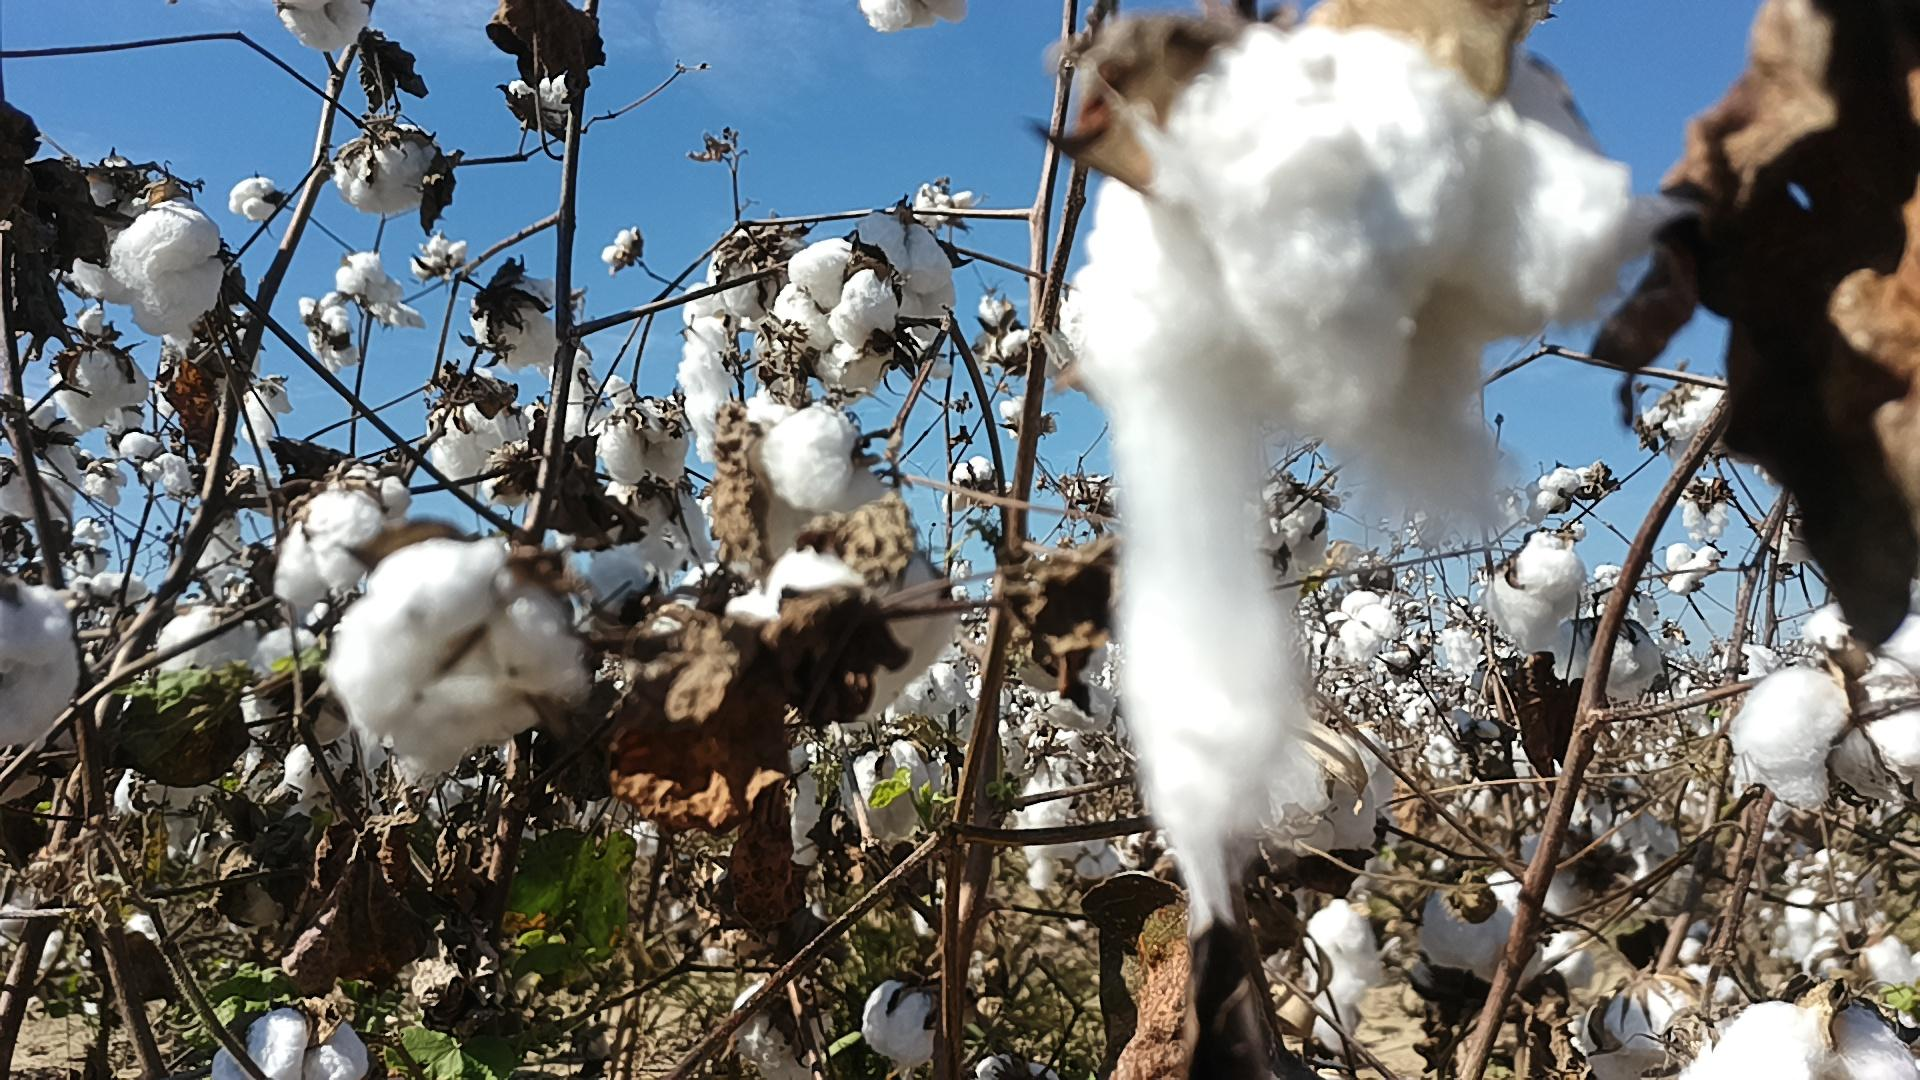cotton_ready: (1071, 24, 1631, 932), (330, 545, 591, 778), (723, 525, 963, 723), (1733, 604, 1920, 816), (727, 397, 890, 568), (1420, 832, 1589, 986), (775, 235, 906, 404), (69, 203, 224, 336), (1671, 1001, 1920, 1080), (1584, 964, 1746, 1080), (260, 682, 386, 828), (1241, 727, 1381, 853), (276, 488, 382, 628), (998, 716, 1083, 889), (855, 208, 959, 344), (235, 622, 319, 787), (0, 587, 80, 745), (429, 363, 530, 483), (1485, 537, 1589, 651), (215, 1002, 368, 1080), (1799, 913, 1920, 1005), (1304, 898, 1378, 1048), (1540, 618, 1667, 704), (605, 479, 719, 570), (675, 284, 731, 464), (711, 225, 810, 320), (335, 123, 434, 216), (53, 344, 154, 434), (856, 737, 945, 839), (1642, 377, 1734, 473), (0, 396, 86, 491), (570, 524, 651, 622), (471, 277, 559, 367), (599, 397, 688, 483), (156, 609, 262, 673), (865, 976, 943, 1062), (1317, 591, 1399, 663), (116, 764, 218, 816), (298, 290, 360, 376), (278, 0, 368, 54), (884, 662, 964, 720), (87, 166, 148, 241), (567, 348, 615, 443), (0, 463, 69, 524), (506, 73, 572, 132), (860, 0, 965, 32), (1005, 328, 1075, 376)
